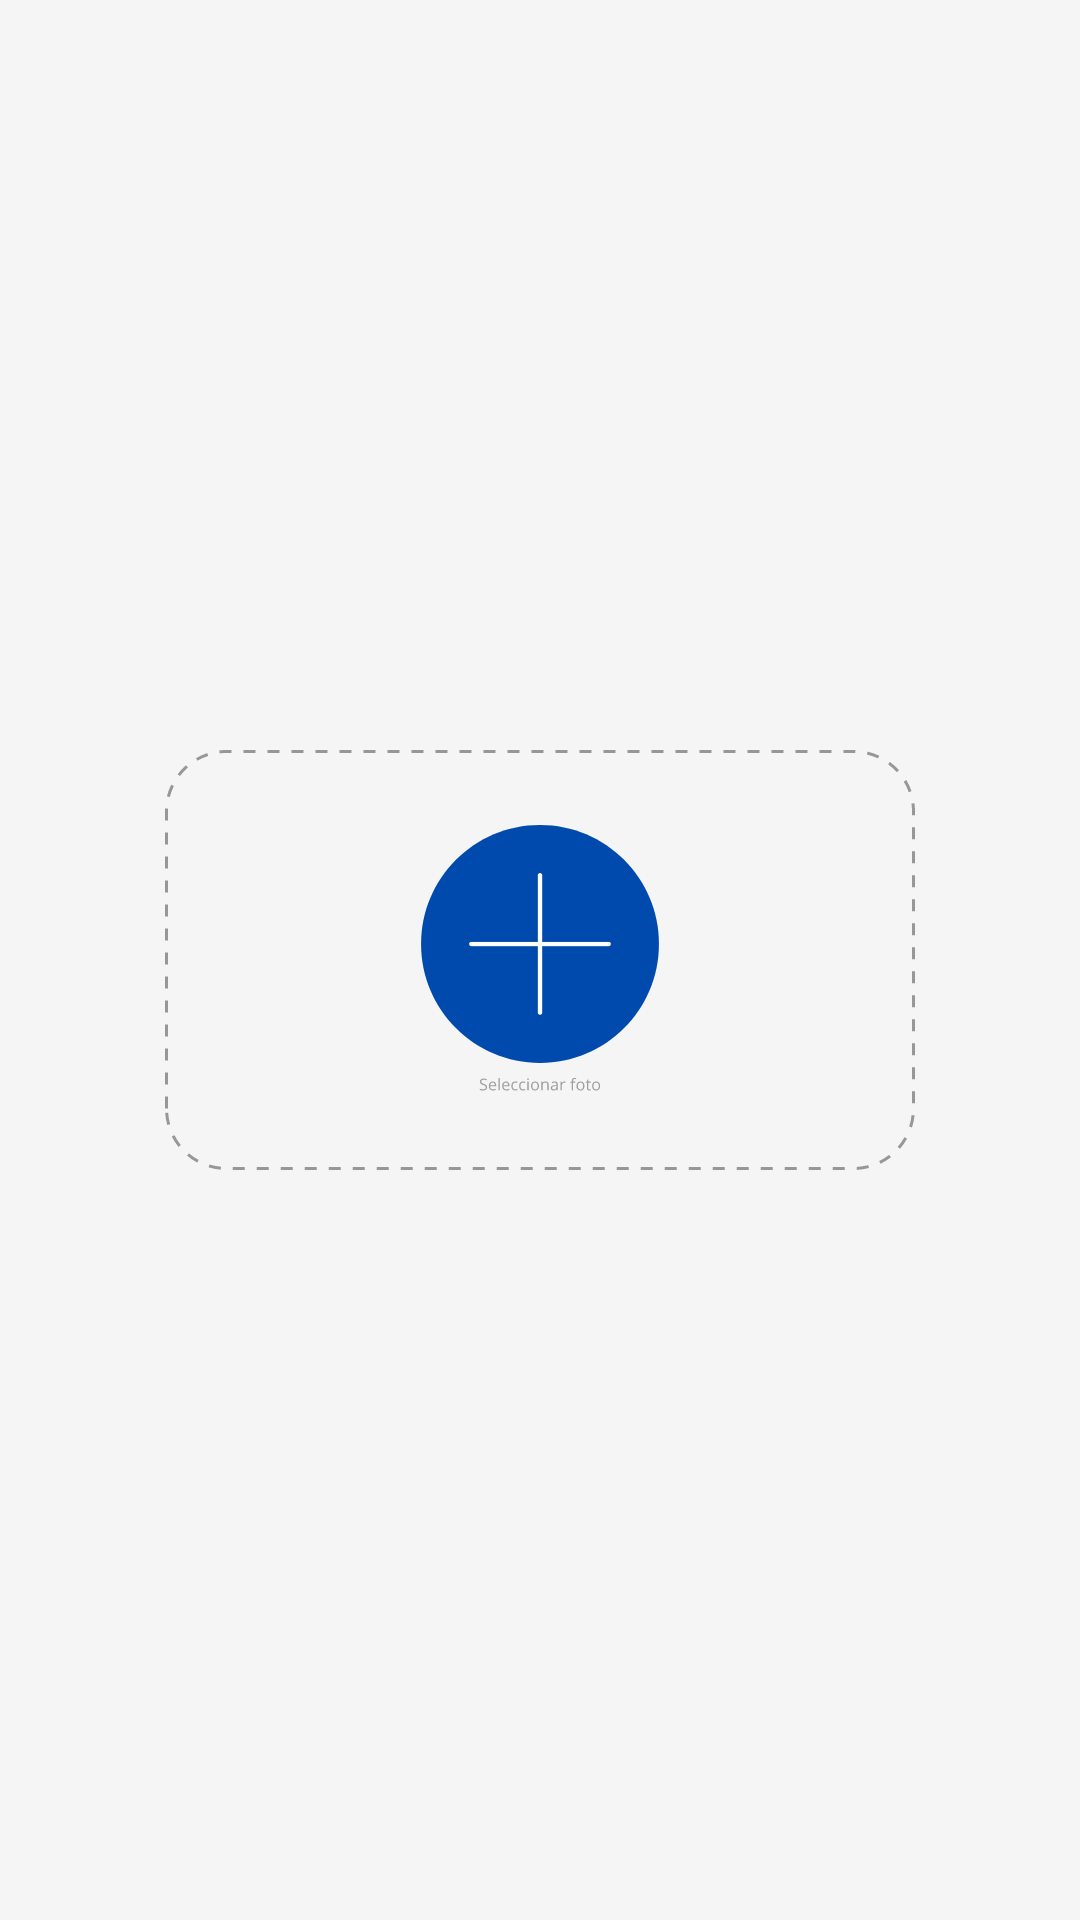

Screen size 1080*1920. Icon name, then its center in pixels as (x,y):
plus: (540,958)
